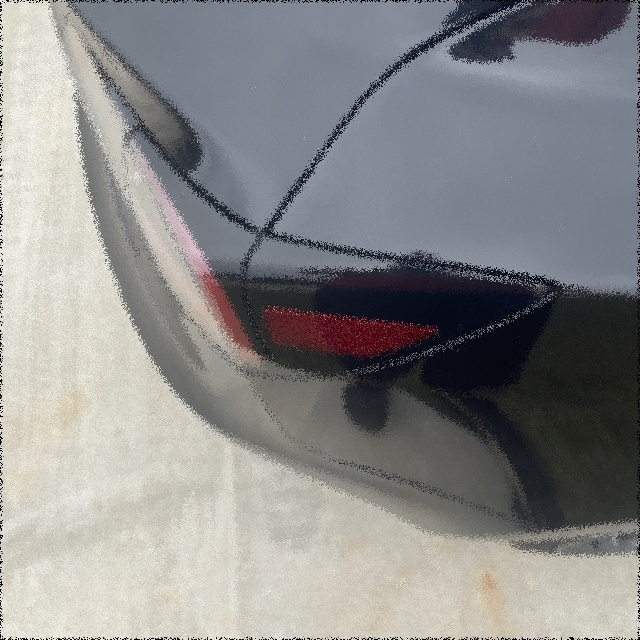reflector: (261, 308, 441, 358)
